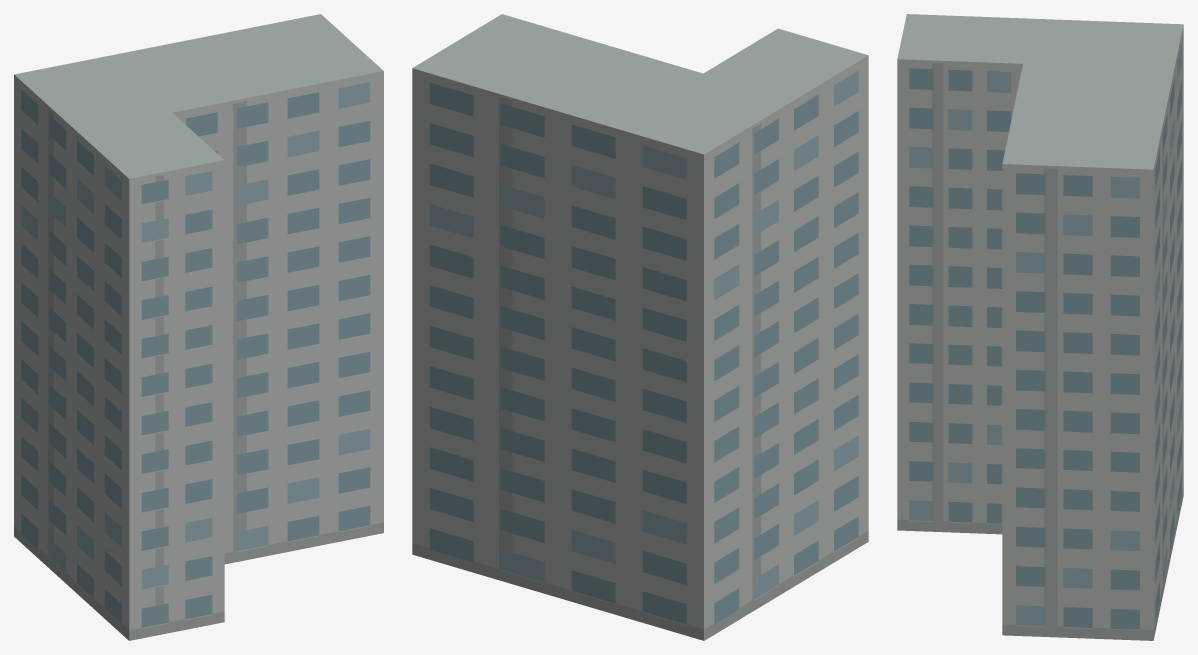
Rendered from residential-cf8dc64b-dd00-4a06-b141-22ac07dd356d.glb.
3 renders of one model, left to right at view 1: azimuth 30°, elevation 25°; view 2: azimuth 150°, elevation 25°; view 3: azimuth 270°, elevation 25°, orthographic. The views are drawn at different scales.
Visible parts, largest first — view 1: residential-cf8dc64b-dd00-4a06-b141-22ac07dd356d.tmp; view 2: residential-cf8dc64b-dd00-4a06-b141-22ac07dd356d.tmp; view 3: residential-cf8dc64b-dd00-4a06-b141-22ac07dd356d.tmp.
Part boxes in pixels (x1,y1,x2,y2): residential-cf8dc64b-dd00-4a06-b141-22ac07dd356d.tmp: (14, 14, 383, 640); residential-cf8dc64b-dd00-4a06-b141-22ac07dd356d.tmp: (412, 14, 868, 640); residential-cf8dc64b-dd00-4a06-b141-22ac07dd356d.tmp: (897, 14, 1183, 640).
Bounding box in the file's own units: 28.34 × 40 × 22.03.
